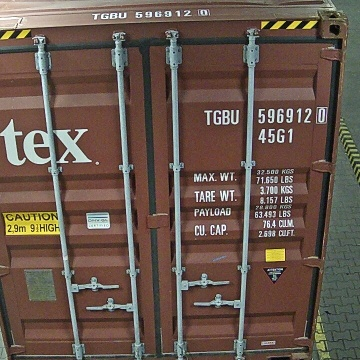serial_id: (204, 107, 327, 124)
